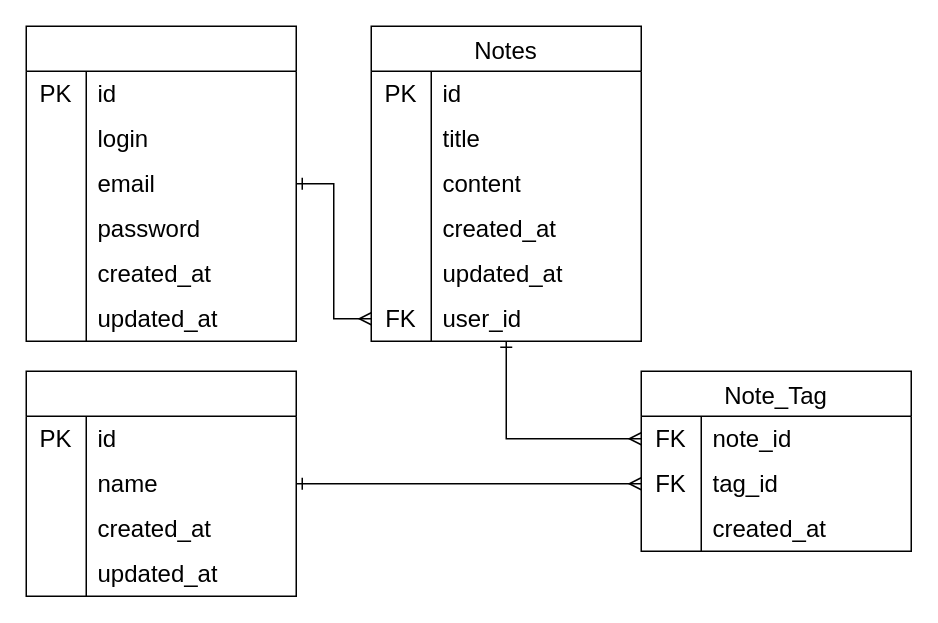
Some shapes in this 938 by 623 pixel diagram are drawn without their labels. The shapes that lost their labels are listed below. From the top down, each one's box as (x1, y1, x2, y2) in pixels, then its label:
(25, 25, 296, 341): Users
(25, 370, 296, 596): Tags
